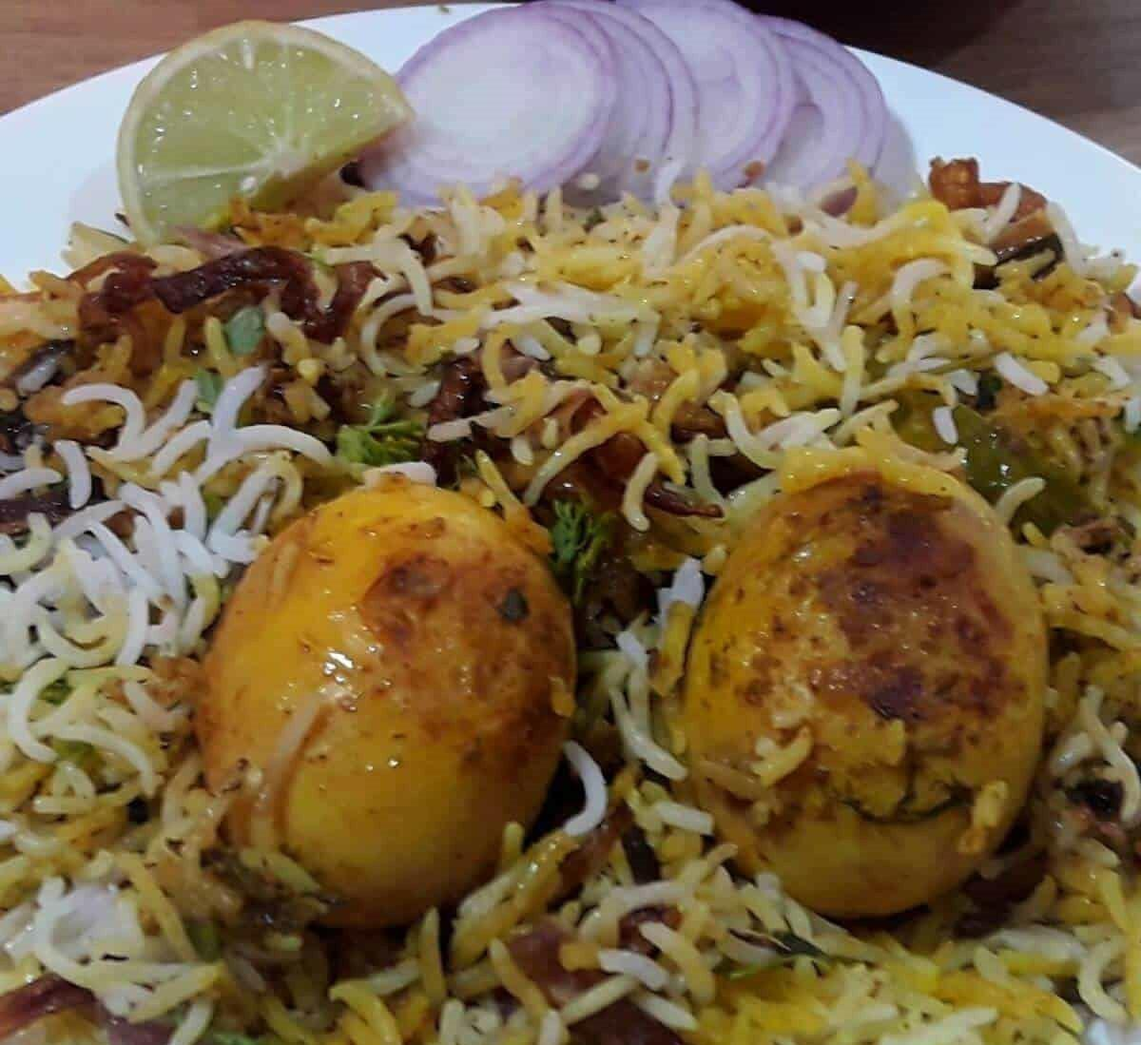Biryani: (0, 176, 1141, 1045)
